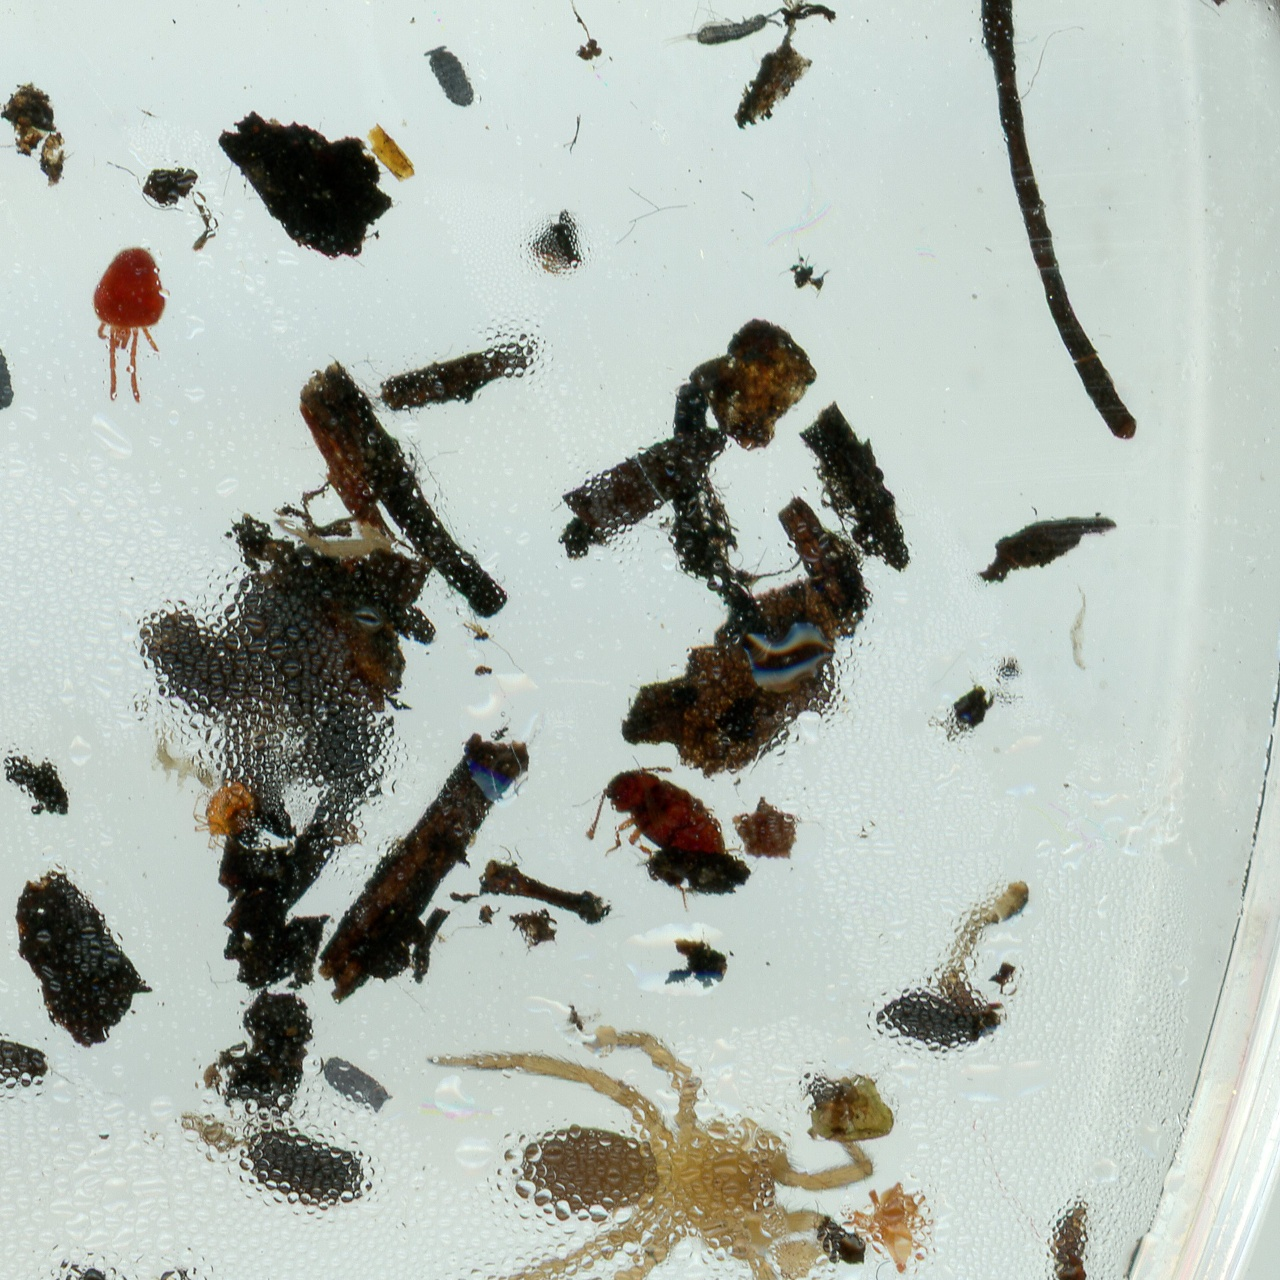arthropod: (420, 1021, 879, 1280), (870, 878, 1032, 1055), (587, 757, 736, 912), (90, 243, 172, 409), (839, 1180, 939, 1278), (735, 615, 838, 697), (651, 0, 798, 55), (308, 1043, 403, 1126), (801, 1071, 898, 1145), (147, 712, 217, 798), (415, 36, 484, 120), (1046, 1193, 1107, 1280), (190, 777, 258, 853), (0, 324, 26, 416)
